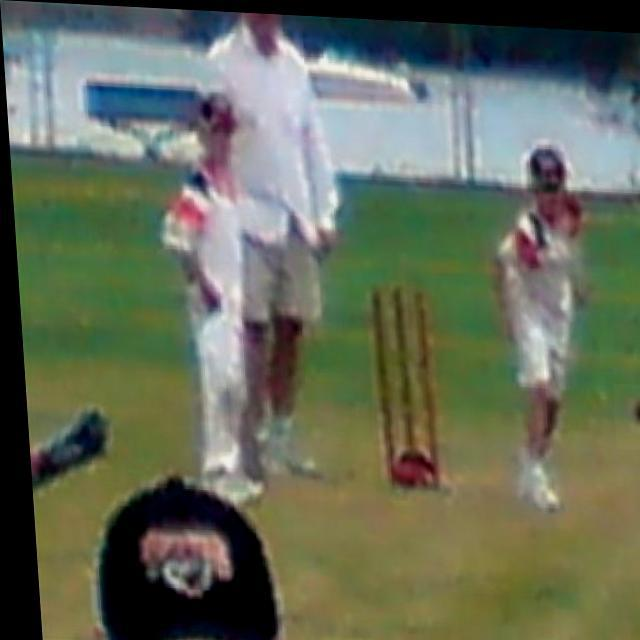-: (607, 377, 640, 444)
